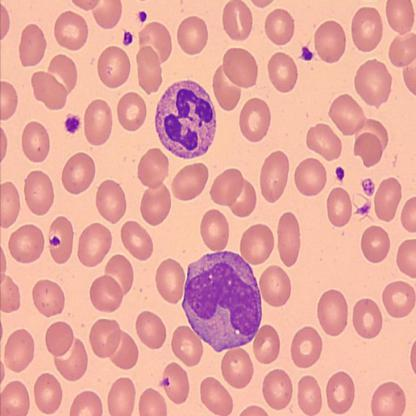Monocyte: (179, 249, 264, 355)
